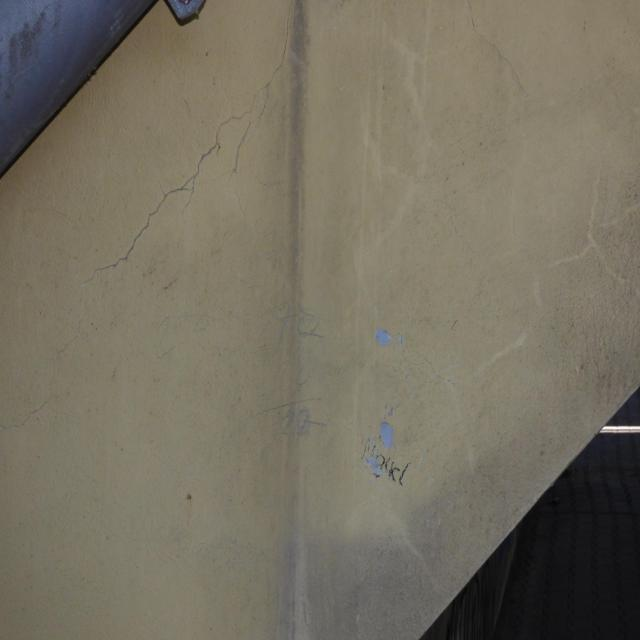diagonal crack: (83, 0, 294, 285), (467, 0, 525, 94), (42, 299, 87, 364), (436, 200, 474, 255)
horizontal crack: (394, 348, 459, 388), (0, 392, 60, 429)
